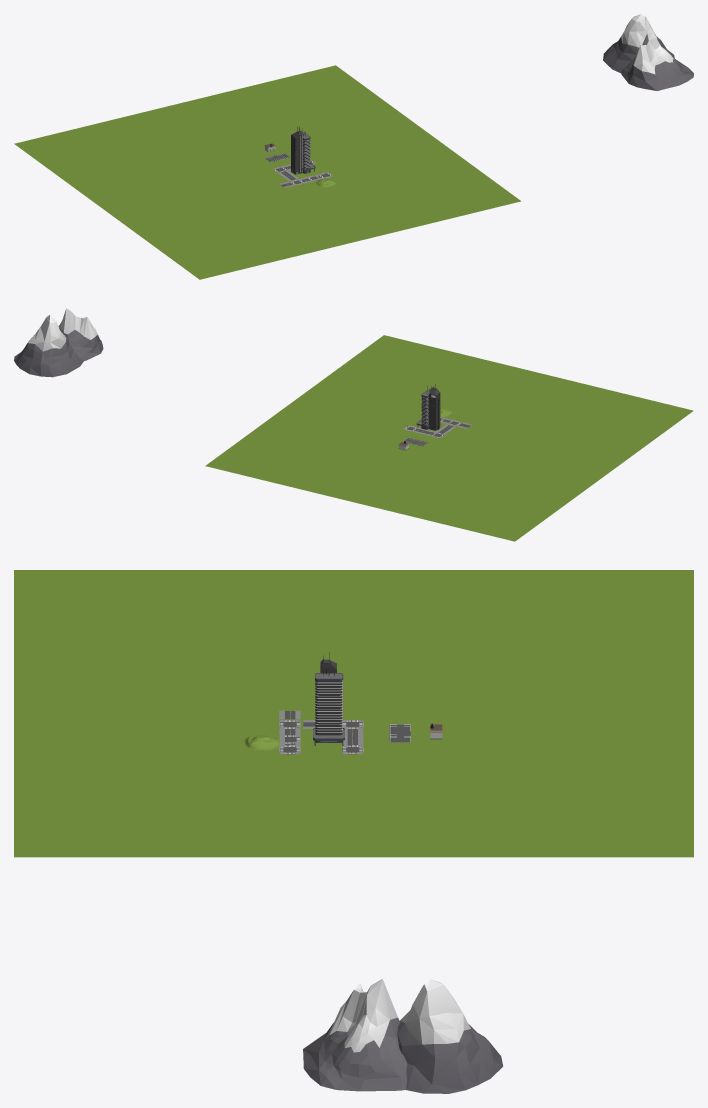
Rendered from city.glb.
3 views of the same model, one above another, from view 1: azimuth 30°, elevation 25°; view 2: azimuth 150°, elevation 25°; view 3: azimuth 270°, elevation 25° (orthographic). The views are drawn at different scales.
Parts seen in each view (by area): view 1: Terrain_01, Mountain_02, Mountain_03, SM_BigBuilding_07; view 2: Terrain_01, Mountain_03, Mountain_02, SM_BigBuilding_07; view 3: Terrain_01, Mountain_02, Mountain_03, SM_BigBuilding_06.
Part boxes in pixels (x1,y1,x2,y2): Terrain_01: (14, 65, 520, 279); Mountain_02: (621, 26, 693, 90); Mountain_03: (603, 14, 674, 73); SM_BigBuilding_07: (291, 126, 303, 174); Terrain_01: (205, 335, 693, 541); Mountain_03: (14, 315, 83, 377); Mountain_02: (58, 308, 103, 361); SM_BigBuilding_07: (428, 384, 440, 430); Terrain_01: (14, 570, 693, 857); Mountain_02: (303, 979, 407, 1091); Mountain_03: (397, 979, 503, 1093); SM_BigBuilding_06: (313, 663, 344, 745).
Size of what is drawn, in the model's own units: 700 by 53.9 by 384.
40 materials, 38 textured.
